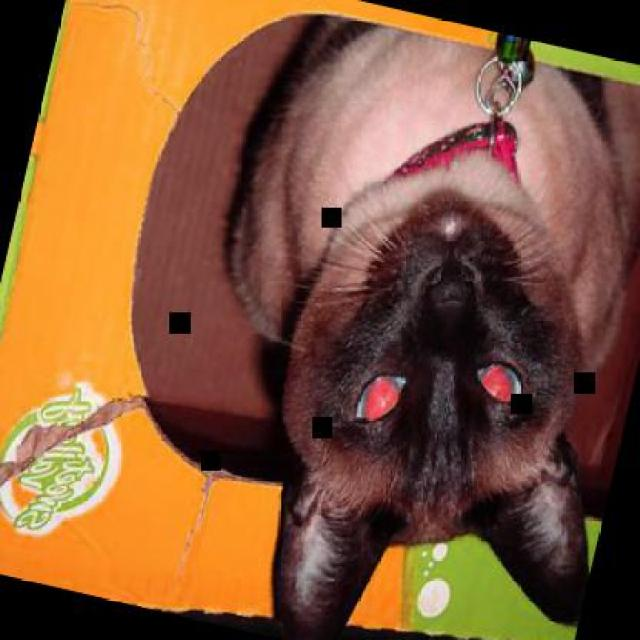cat: (150, 0, 638, 638)
